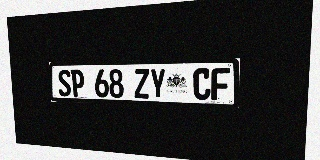6: (94, 69, 109, 97)
8: (109, 69, 124, 98)
C: (193, 68, 211, 100)
F: (211, 68, 230, 101)
P: (70, 69, 85, 97)
S: (57, 70, 71, 97)
Y: (150, 68, 166, 99)
Z: (134, 69, 149, 98)
